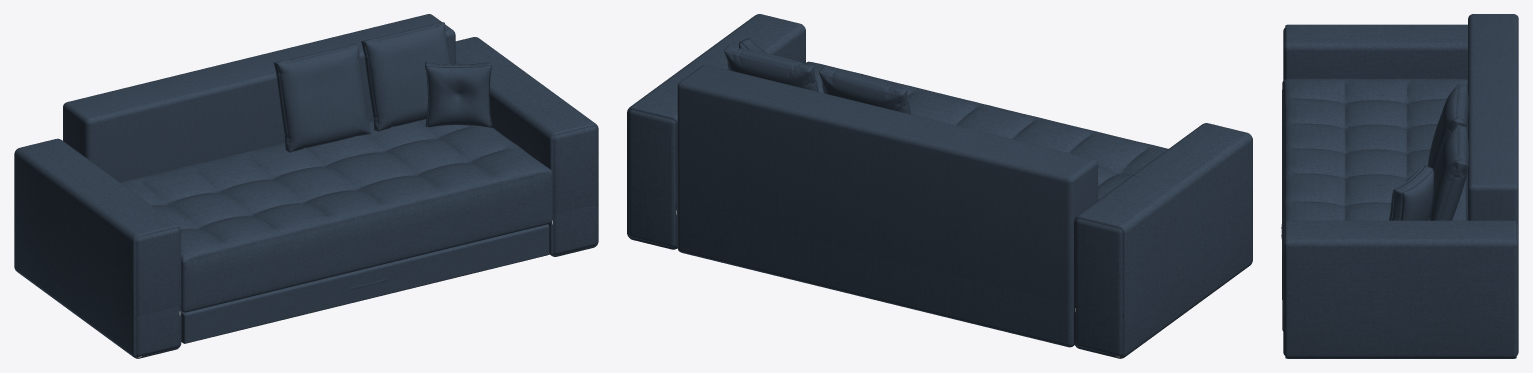
The model's file is sillon.glb.
The picture shows the model from 3 angles, left to right: view 1: azimuth 30°, elevation 25°; view 2: azimuth 150°, elevation 25°; view 3: azimuth 270°, elevation 25°; orthographic projection. The views are drawn at different scales.
Parts seen in each view (by area): view 1: Seat, Back.001, CAMA-APOYABRAZOS, Sides.001, CAMA-FRENTE, CAMA-RESPALDO, Pillow-001, Pillow, Pillow-002; view 2: Back.001, CAMA-RESPALDO, CAMA-APOYABRAZOS, Sides.001, Seat, Pillow-001, Pillow; view 3: CAMA-APOYABRAZOS, Seat, Sides.001, Back.001, Pillow, CAMA-RESPALDO, Pillow-002, Pillow-001.
Part boxes in pixels (bbox=[...]): Seat: bbox=[119, 119, 552, 312]; Back.001: bbox=[63, 14, 455, 181]; CAMA-APOYABRAZOS: bbox=[14, 37, 598, 358]; Sides.001: bbox=[21, 37, 598, 319]; CAMA-FRENTE: bbox=[181, 224, 549, 343]; CAMA-RESPALDO: bbox=[63, 27, 455, 181]; Pillow-001: bbox=[273, 43, 370, 152]; Pillow: bbox=[361, 22, 450, 131]; Pillow-002: bbox=[425, 61, 492, 128]; Back.001: bbox=[677, 64, 1097, 303]; CAMA-RESPALDO: bbox=[677, 82, 1097, 347]; CAMA-APOYABRAZOS: bbox=[627, 14, 1252, 358]; Sides.001: bbox=[627, 14, 1252, 316]; Seat: bbox=[805, 61, 1167, 200]; Pillow-001: bbox=[819, 66, 911, 114]; Pillow: bbox=[724, 45, 818, 91]; CAMA-APOYABRAZOS: bbox=[1283, 24, 1518, 358]; Seat: bbox=[1282, 78, 1467, 301]; Sides.001: bbox=[1283, 24, 1513, 318]; Back.001: bbox=[1468, 14, 1518, 226]; Pillow: bbox=[1429, 124, 1468, 220]; CAMA-RESPALDO: bbox=[1468, 15, 1518, 224]; Pillow-002: bbox=[1389, 165, 1433, 220]; Pillow-001: bbox=[1428, 84, 1468, 172].
Size of the model in its own units: 2.03 by 0.7337 by 0.9299.
11 materials, 6 textured.
